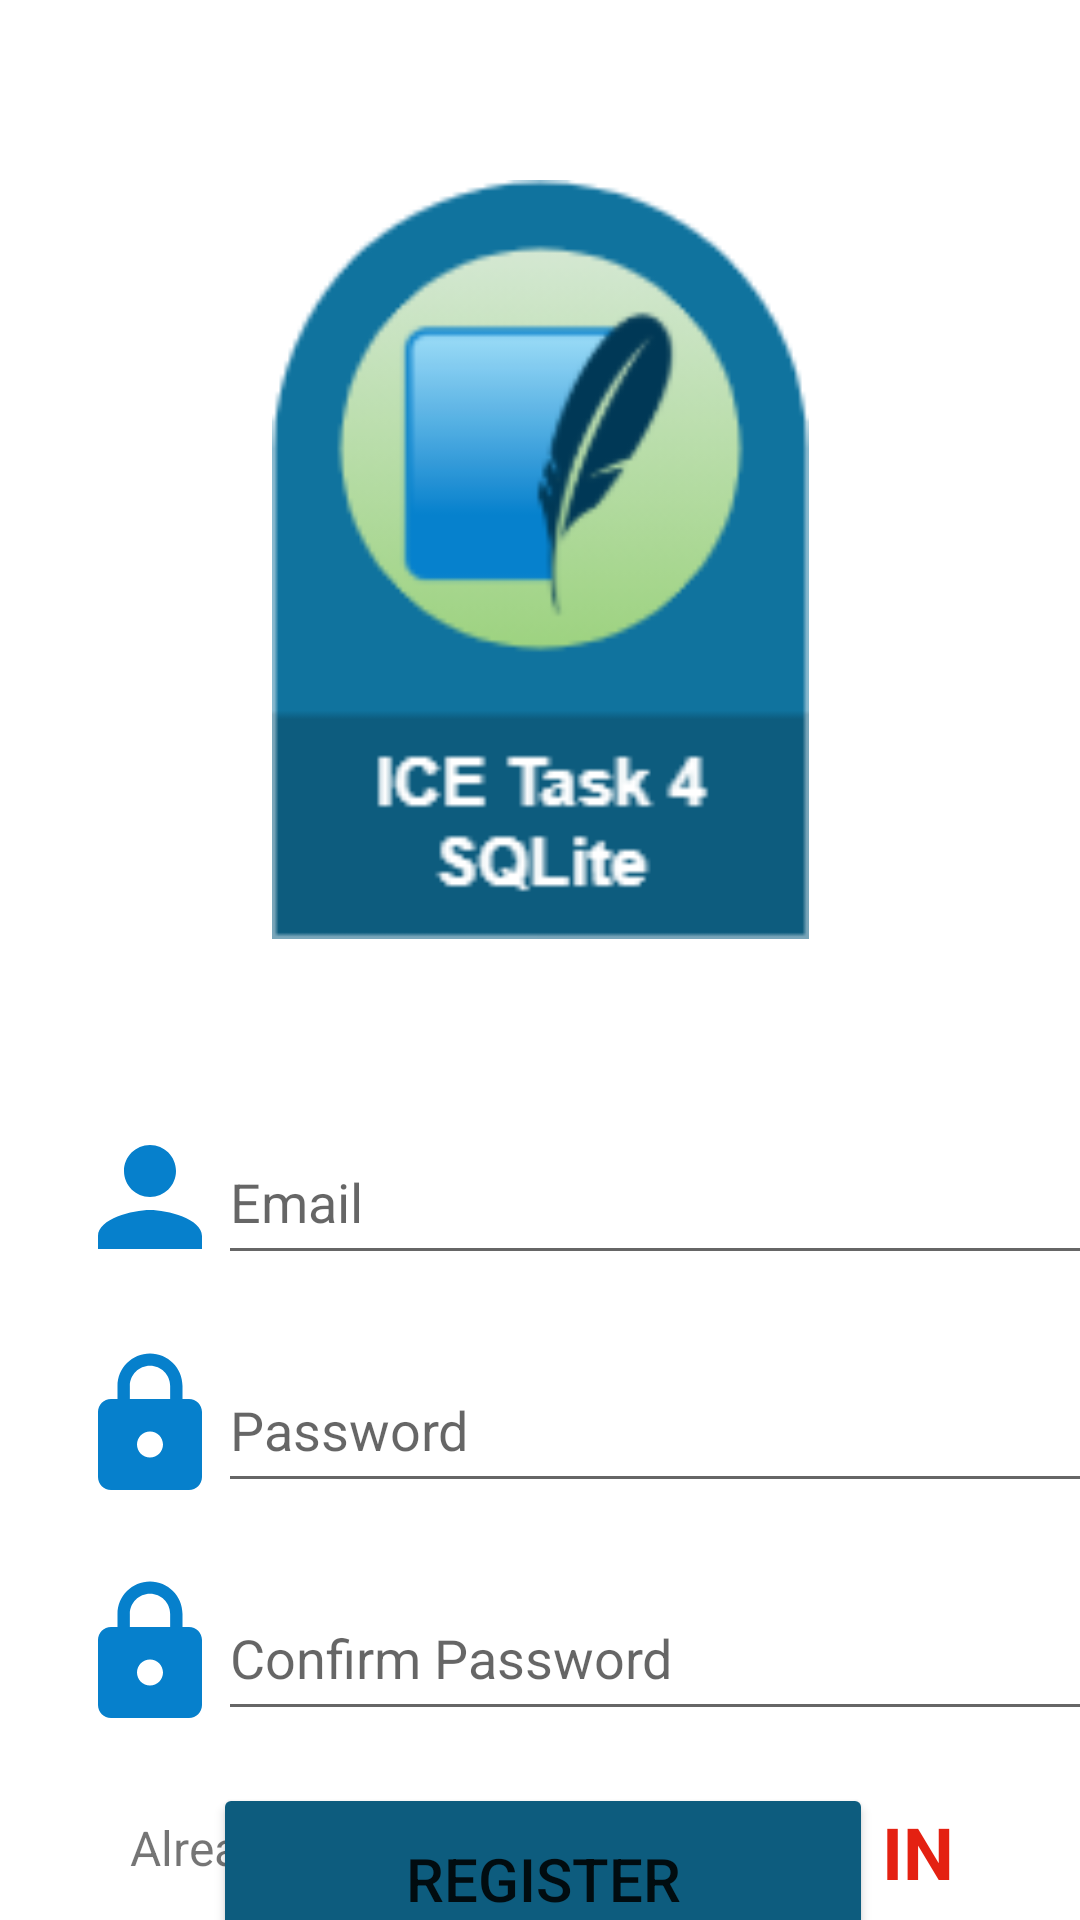

Named icons in this screenshot (1080x1920) and their centers, [x,y]:
lock: [150,1421], [150,1649]
person: [150,1197]
